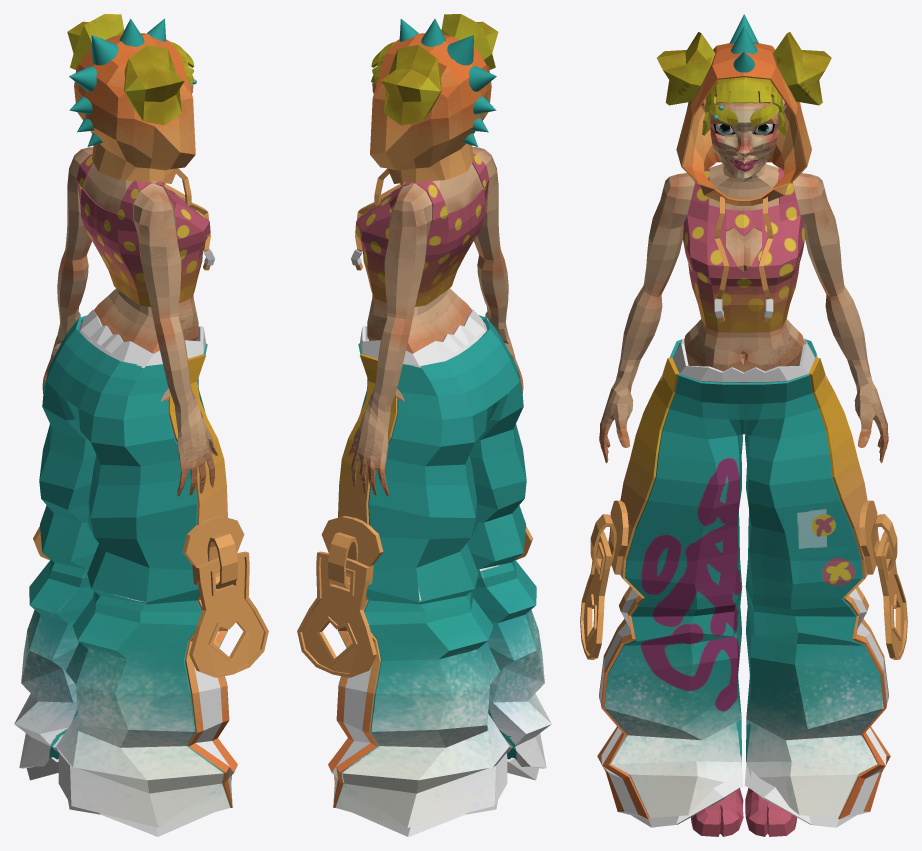
Rendered from Aroa.fbx.
The picture shows the model from 3 angles, left to right: view 1: azimuth 30°, elevation 25°; view 2: azimuth 150°, elevation 25°; view 3: azimuth 270°, elevation 25°; orthographic projection.
Parts seen in each view (by area): view 1: Cube.006, Cube.004, Cube, Plane.005, Cube.005, Cube.001, Cone.006, Cube.007, Cube.008, Plane.001; view 2: Cube.006, Cube.004, Cube, Plane.005, Cube.005, Cube.001, Cone.006, Cube.007, Cube.008, Plane.001; view 3: Cube.006, Cube.004, Cube.005, Plane.005, Cube.001, Cube, Cube.009, Cube.008, Cube.007, Plane.001, Cone.006.
Part boxes in pixels (bbox=[...]): Cube.006: bbox=[14, 315, 237, 827]; Cube.004: bbox=[42, 83, 217, 496]; Cube: bbox=[74, 33, 195, 183]; Plane.005: bbox=[33, 516, 268, 677]; Cube.005: bbox=[76, 154, 210, 306]; Cube.001: bbox=[67, 14, 194, 125]; Cone.006: bbox=[69, 18, 166, 146]; Cube.007: bbox=[78, 308, 206, 366]; Cube.008: bbox=[26, 757, 212, 836]; Plane.001: bbox=[164, 168, 210, 270]; Cube.006: bbox=[328, 315, 551, 827]; Cube.004: bbox=[347, 83, 523, 496]; Cube: bbox=[370, 33, 491, 183]; Plane.005: bbox=[297, 516, 532, 677]; Cube.005: bbox=[355, 153, 489, 306]; Cube.001: bbox=[371, 14, 498, 125]; Cone.006: bbox=[399, 18, 496, 146]; Cube.007: bbox=[359, 308, 487, 365]; Cube.008: bbox=[353, 757, 539, 836]; Plane.001: bbox=[355, 168, 401, 270]; Cube.006: bbox=[597, 339, 890, 819]; Cube.004: bbox=[599, 92, 888, 462]; Cube.005: bbox=[683, 167, 804, 332]; Plane.005: bbox=[580, 500, 907, 659]; Cube.001: bbox=[657, 32, 831, 135]; Cube: bbox=[676, 43, 811, 205]; Cube.009: bbox=[691, 788, 796, 836]; Cube.008: bbox=[631, 763, 856, 827]; Cube.007: bbox=[672, 338, 815, 382]; Plane.001: bbox=[714, 196, 773, 322]; Cone.006: bbox=[729, 14, 758, 72].
Bounding box in the file's own units: 763 × 3346 × 1278.
